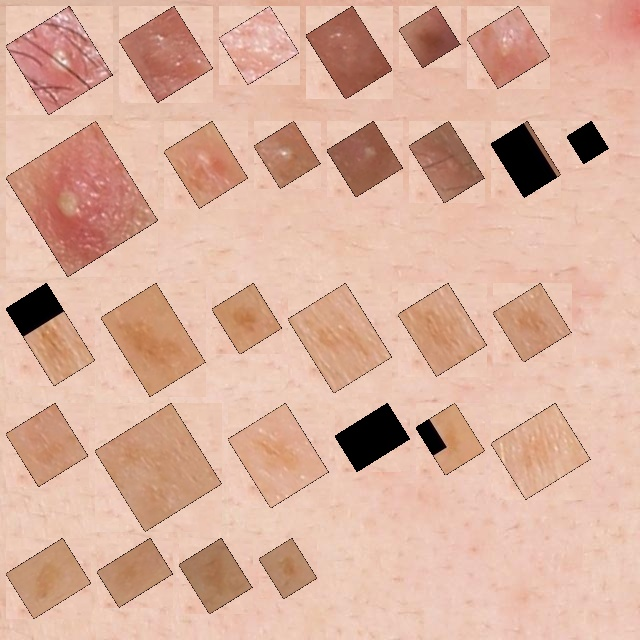hypertrophic_scar: (130, 17, 202, 91), (317, 17, 381, 88), (230, 17, 288, 73)
melasma: (106, 414, 211, 520), (112, 294, 194, 385), (299, 294, 381, 382), (239, 414, 318, 497), (502, 414, 579, 488), (17, 294, 84, 375), (409, 294, 476, 365), (17, 414, 77, 475), (17, 549, 80, 607), (504, 294, 560, 351), (190, 549, 241, 603), (502, 132, 550, 186), (108, 549, 162, 596), (223, 294, 271, 343), (427, 414, 474, 464), (270, 549, 306, 588)
nevus: (410, 17, 449, 56)
pustule: (17, 132, 147, 265), (17, 17, 102, 103), (175, 132, 237, 197), (478, 17, 539, 77), (420, 132, 473, 192), (338, 132, 392, 186), (265, 132, 309, 177)
